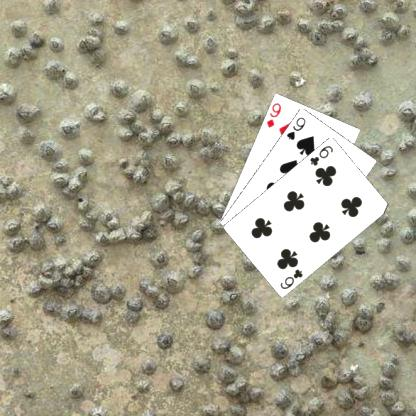6C: (307, 142, 334, 167), (277, 266, 304, 290)
9D: (264, 100, 282, 129)
9S: (283, 114, 307, 141)
